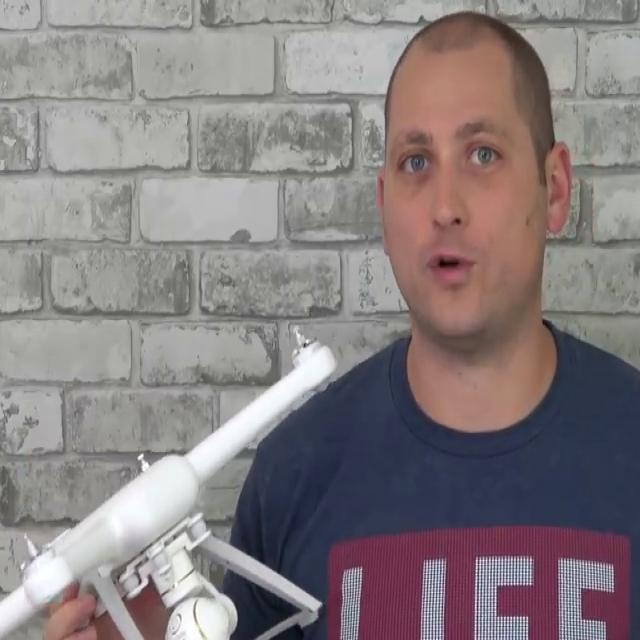drone: (0, 299, 356, 640)
